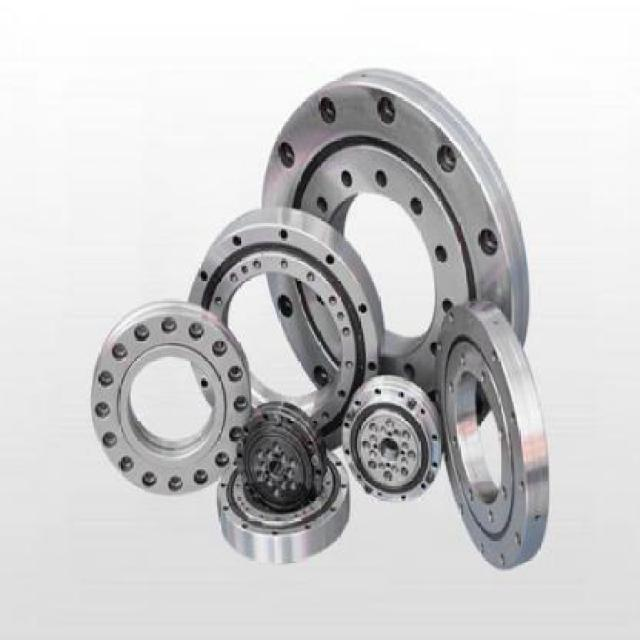Bearing: (188, 204, 382, 450), (436, 295, 554, 571), (212, 452, 352, 562)
